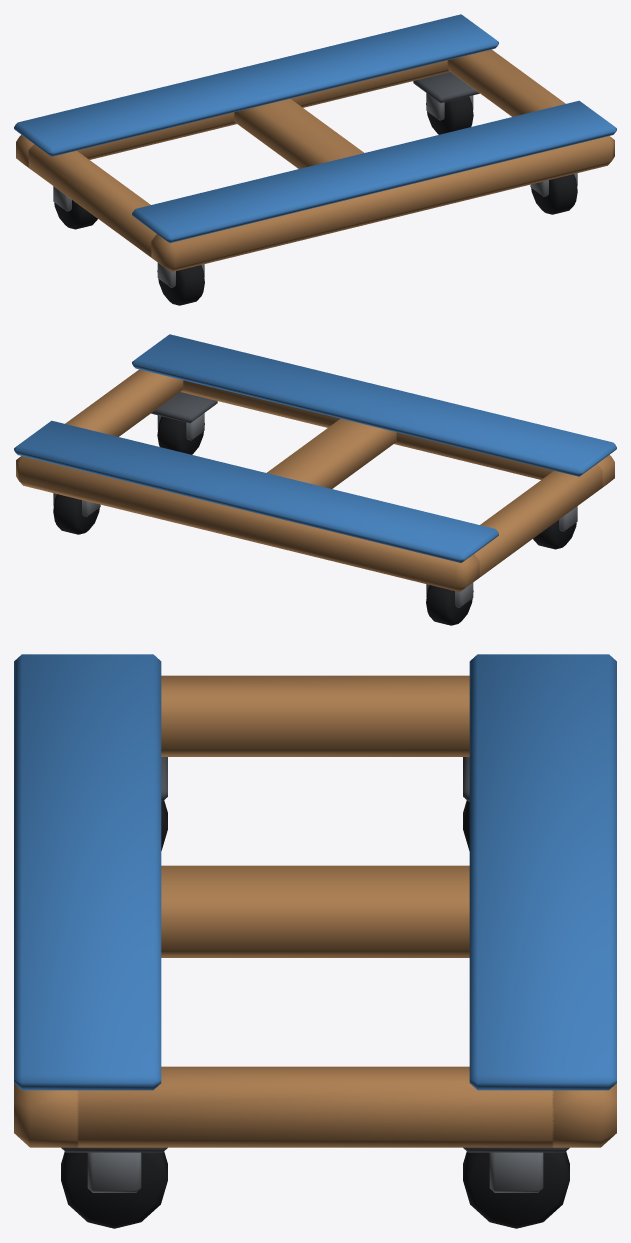
The model's file is SM_Dolly_Furniture_01.glb.
3 views of the same model, one above another, from view 1: azimuth 30°, elevation 25°; view 2: azimuth 150°, elevation 25°; view 3: azimuth 270°, elevation 25° (orthographic). The views are drawn at different scales.
Parts seen in each view (by area): view 1: SM_Dolly_Furniture_01; view 2: SM_Dolly_Furniture_01; view 3: SM_Dolly_Furniture_01.
Boxes of the visible parts, <box> form: SM_Dolly_Furniture_01: <box>14,14,616,305</box>; SM_Dolly_Furniture_01: <box>14,334,616,625</box>; SM_Dolly_Furniture_01: <box>14,654,616,1228</box>.
Size of the model in its own units: 0.75 by 0.15 by 0.45.
Materials: 1 (1 with a texture image).
